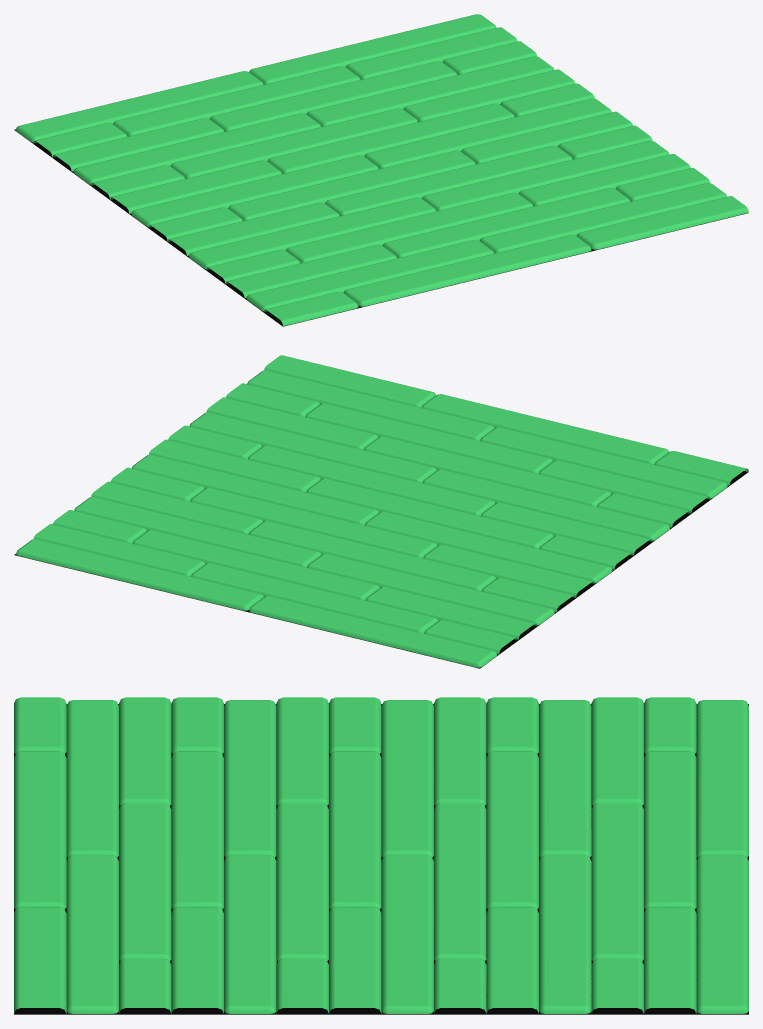
The model's file is Env2_Ground.fbx.
3 views of the same model, one above another, from view 1: azimuth 30°, elevation 25°; view 2: azimuth 150°, elevation 25°; view 3: azimuth 270°, elevation 25° (orthographic). The views are drawn at different scales.
Parts seen in each view (by area): view 1: Env2_Ground; view 2: Env2_Ground; view 3: Env2_Ground.
Part boxes in pixels (left/top/right/bottom): Env2_Ground: left=14, top=14, right=748, bottom=326; Env2_Ground: left=14, top=355, right=748, bottom=668; Env2_Ground: left=14, top=697, right=748, bottom=1014.
Size of the model in its own units: 300 by 2.91 by 300.
